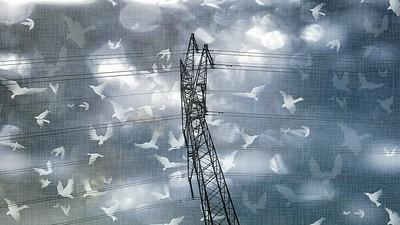power_tower: (173, 36, 243, 225)
